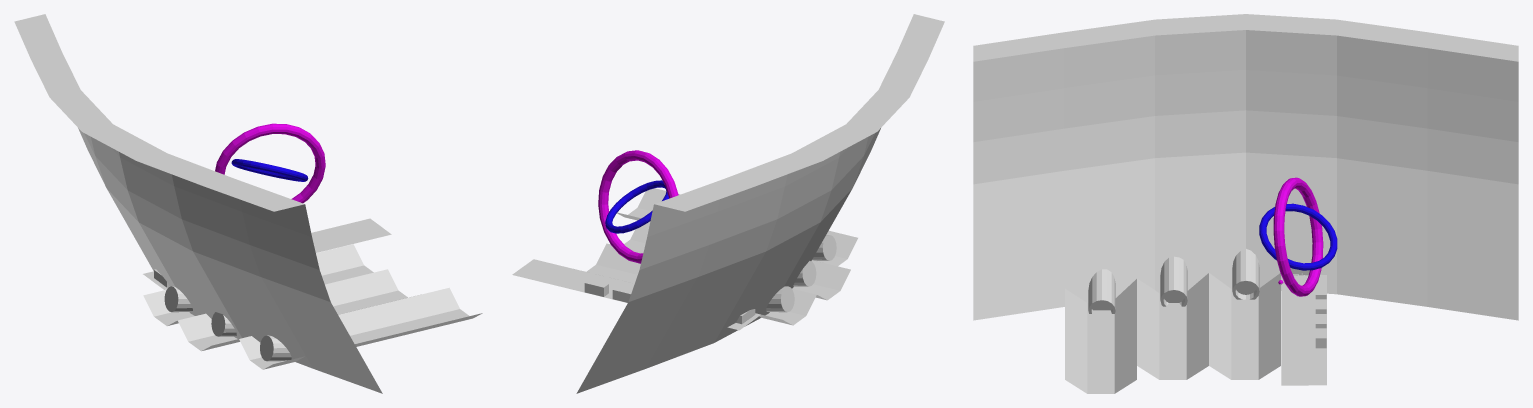
The model's file is damTest.glb.
The picture shows the model from 3 angles, left to right: view 1: azimuth 30°, elevation 25°; view 2: azimuth 150°, elevation 25°; view 3: azimuth 270°, elevation 25°; orthographic projection. The views are drawn at different scales.
Visible parts, largest first — view 1: dam nocol, damSpillway.002-col, damSpillway.001-col, damSpillway-col, AbominableTorusOfIgnorance, roadSidewalk-convcol, AbominableTorusOfIgnorance.001, road-convcol, damOutflowPipe.002-col, damOutflowPipe-convcol, damOutflowPipe.001-convcol; view 2: dam nocol, AbominableTorusOfIgnorance, damSpillway-col, damSpillway.001-col, damSpillway.002-col, roadSidewalk-convcol, AbominableTorusOfIgnorance.001, road-convcol, damOutflowPipe-convcol, damOutflowPipe.002-col, damOutflowPipe.001-convcol; view 3: dam nocol, damSpillway.002-col, damSpillway-col, damSpillway.001-col, AbominableTorusOfIgnorance, roadSidewalk-convcol, road-convcol, AbominableTorusOfIgnorance.001, damOutflowPipe-convcol, damOutflowPipe.001-convcol, damOutflowPipe.002-col.
Boxes of the visible parts, x1=… form: dam nocol: x1=14, y1=14, x2=382, y2=393; damSpillway.002-col: x1=239, y1=287, x2=482, y2=369; damSpillway.001-col: x1=177, y1=269, x2=407, y2=351; damSpillway-col: x1=143, y1=244, x2=373, y2=325; AbominableTorusOfIgnorance: x1=215, y1=123, x2=325, y2=203; roadSidewalk-convcol: x1=143, y1=218, x2=382, y2=283; AbominableTorusOfIgnorance.001: x1=231, y1=159, x2=308, y2=181; road-convcol: x1=154, y1=228, x2=391, y2=289; damOutflowPipe.002-col: x1=260, y1=335, x2=291, y2=361; damOutflowPipe-convcol: x1=164, y1=286, x2=192, y2=312; damOutflowPipe.001-convcol: x1=211, y1=312, x2=236, y2=336; dam nocol: x1=576, y1=14, x2=944, y2=393; AbominableTorusOfIgnorance: x1=598, y1=150, x2=678, y2=263; damSpillway-col: x1=586, y1=243, x2=816, y2=325; damSpillway.001-col: x1=624, y1=221, x2=850, y2=300; damSpillway.002-col: x1=617, y1=188, x2=857, y2=266; roadSidewalk-convcol: x1=512, y1=265, x2=751, y2=330; AbominableTorusOfIgnorance.001: x1=605, y1=180, x2=668, y2=233; road-convcol: x1=525, y1=259, x2=760, y2=321; damOutflowPipe-convcol: x1=766, y1=286, x2=794, y2=312; damOutflowPipe.002-col: x1=812, y1=235, x2=836, y2=260; damOutflowPipe.001-convcol: x1=793, y1=261, x2=816, y2=286; dam nocol: x1=973, y1=14, x2=1518, y2=320; damSpillway.002-col: x1=1065, y1=279, x2=1136, y2=393; damSpillway-col: x1=1209, y1=273, x2=1280, y2=379; damSpillway.001-col: x1=1137, y1=273, x2=1208, y2=379; AbominableTorusOfIgnorance: x1=1273, y1=177, x2=1323, y2=296; roadSidewalk-convcol: x1=1299, y1=274, x2=1326, y2=385; road-convcol: x1=1281, y1=275, x2=1308, y2=385; AbominableTorusOfIgnorance.001: x1=1259, y1=203, x2=1337, y2=270; damOutflowPipe-convcol: x1=1232, y1=249, x2=1259, y2=299; damOutflowPipe.001-convcol: x1=1160, y1=256, x2=1187, y2=306; damOutflowPipe.002-col: x1=1088, y1=269, x2=1115, y2=313.
Size of what is drawn, in the model's own units: 726 by 460 by 1000.
